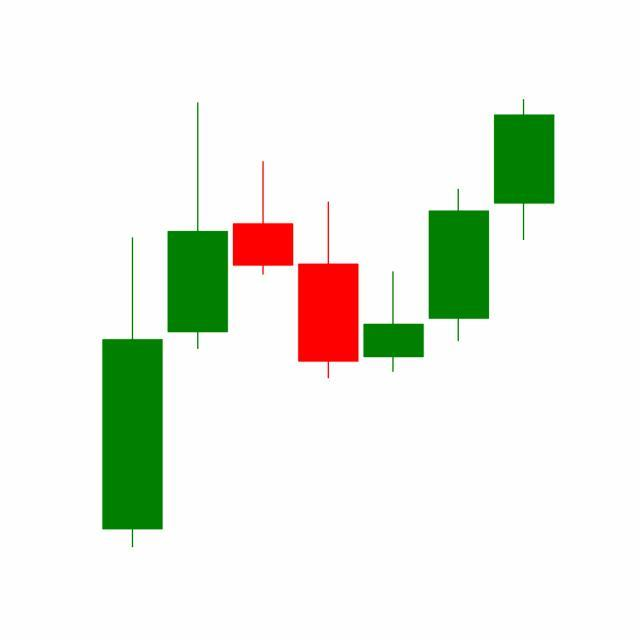Hikkake Pattern: (165, 100, 492, 382)
